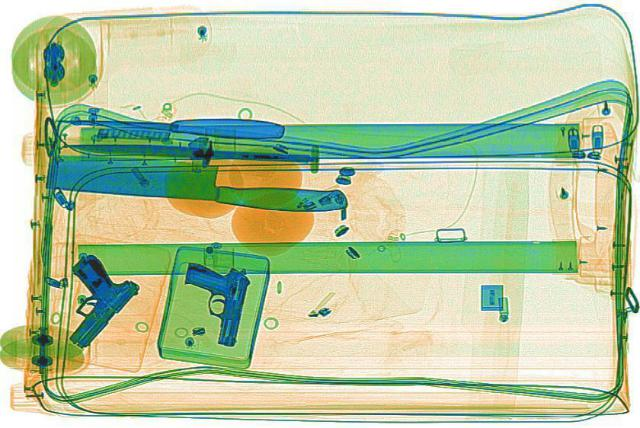Gun: (17, 250, 154, 345), (170, 259, 252, 344)
Knife: (40, 148, 352, 212), (58, 108, 284, 138), (66, 137, 310, 163)
